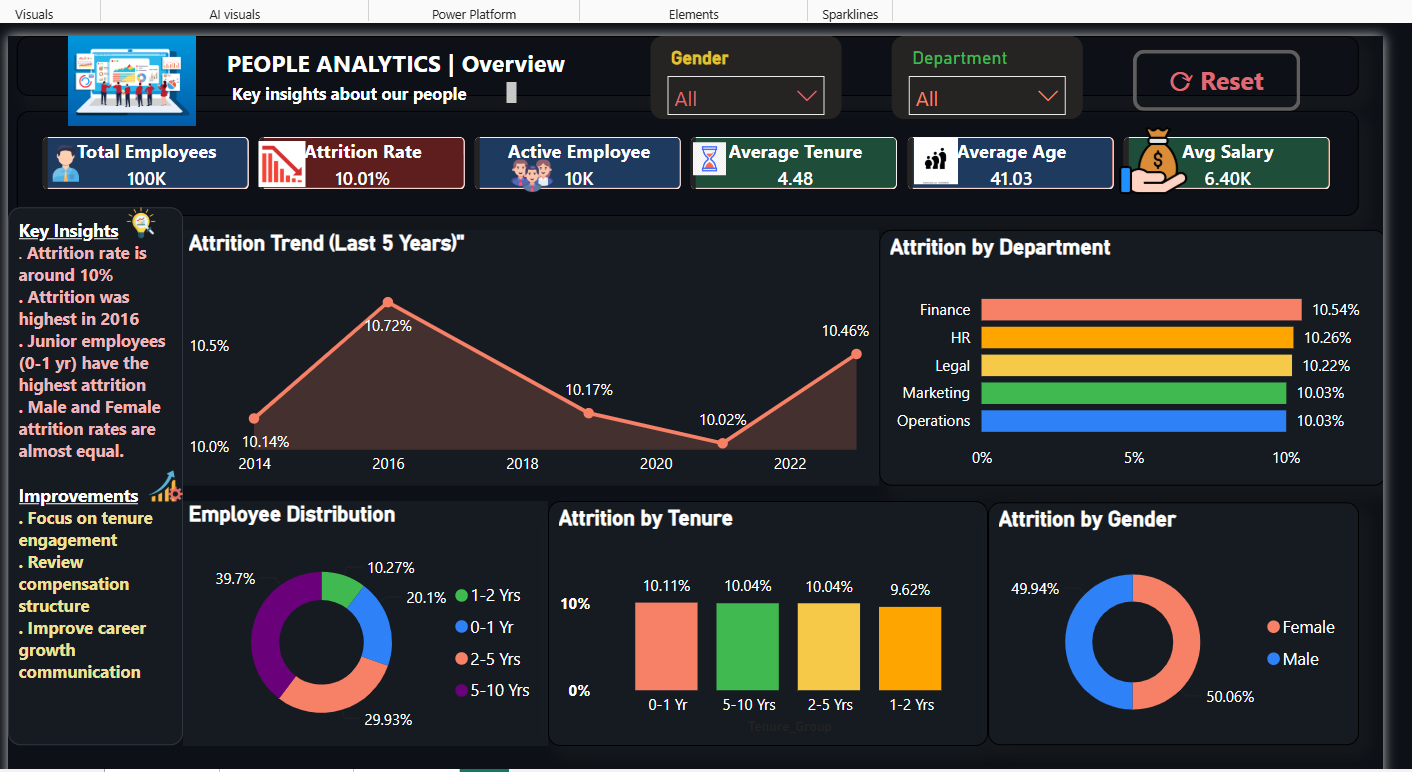

This screenshot's page, from the dashboard's own definition file:
{"tool":"powerbi","page":{"name":"Overview","canvas":[1100,720],"ordinal":0},"visuals":[{"type":"cardVisual","fields":{"Data":["Measures (2).Total Employees","Measures (2).Attrition Rate","Measures (2).Active Employee","Measures (2).Average Tenure","Measures (2).Average Age","Measures (2).Avg Salary"]},"box":[7,60,1074,84],"z":0},{"type":"areaChart","title":"Attrition Trend (Last 5 Years)\"","fields":{"Category":["Employees Data.Hire_Year"],"Y":["Measures (2).Attrition Rate"]},"box":[140,155,557,205],"z":1000},{"type":"textbox","box":[7,0,1074,48],"z":2000},{"type":"textbox","box":[174,32,238,33],"z":3000},{"type":"clusteredBarChart","title":"Attrition by Department","fields":{"Category":["Employees Data.Department"],"Y":["Measures (2).Attrition Rate"]},"box":[697,155,406,205],"z":4000},{"type":"donutChart","title":"Employee Distribution","fields":{"Category":["Employees Data.Tenure_Group"],"Y":["Measures (2).Total Employees"]},"box":[140,372,292,196],"z":5000},{"type":"clusteredColumnChart","title":"Attrition by Tenure","fields":{"Category":["Employees Data.Tenure_Group"],"Y":["Measures (2).Attrition Rate"]},"box":[432,372,352,196],"z":6000},{"type":"donutChart","title":"Attrition by Gender","fields":{"Category":["Employees Data.Gender"],"Y":["Measures (2).Attrition Rate"]},"box":[784,373,297,195],"z":7000},{"type":"textbox","box":[0,137,140,431],"z":8000},{"type":"slicer","fields":{"Values":["Employees Data.Gender"]},"box":[514,0,153,67],"z":9000},{"type":"slicer","fields":{"Values":["Employees Data.Department"]},"box":[707,0,153,67],"z":10000},{"type":"actionButton","box":[900,11,134,49],"z":11000},{"type":"image","box":[23,85,47,34],"z":12000},{"type":"image","box":[194,84,51,37],"z":13000},{"type":"image","box":[398,95,43,34],"z":14000},{"type":"image","box":[532,85,59,27],"z":15000},{"type":"image","box":[716,81,54,38],"z":16000},{"type":"image","box":[885,73,63,54],"z":17000},{"type":"image","box":[0,0,199,72],"z":18000},{"type":"image","box":[86,137,41,25],"z":19000},{"type":"image","box":[103,346,47,28],"z":20000}]}

Visuals, with their boxes on the page's 1100x720 design canvas (x1, y1, x2, y2). These are canvas units, not pixel positions in the 1412x772 screenshot, which may show the page scaled, cropped or inside an application window:
cardVisual - Measures (2).Total Employees x Measures (2).Attrition Rate: detection(7, 60, 1081, 144)
"Attrition Trend (Last 5 Years)"" areaChart: detection(140, 155, 697, 360)
textbox: detection(7, 0, 1081, 48)
textbox: detection(174, 32, 412, 65)
"Attrition by Department" clusteredBarChart: detection(697, 155, 1103, 360)
"Employee Distribution" donutChart: detection(140, 372, 432, 568)
"Attrition by Tenure" clusteredColumnChart: detection(432, 372, 784, 568)
"Attrition by Gender" donutChart: detection(784, 373, 1081, 568)
textbox: detection(0, 137, 140, 568)
slicer - Employees Data.Gender: detection(514, 0, 667, 67)
slicer - Employees Data.Department: detection(707, 0, 860, 67)
actionButton: detection(900, 11, 1034, 60)
image: detection(23, 85, 70, 119)
image: detection(194, 84, 245, 121)
image: detection(398, 95, 441, 129)
image: detection(532, 85, 591, 112)
image: detection(716, 81, 770, 119)
image: detection(885, 73, 948, 127)
image: detection(0, 0, 199, 72)
image: detection(86, 137, 127, 162)
image: detection(103, 346, 150, 374)
